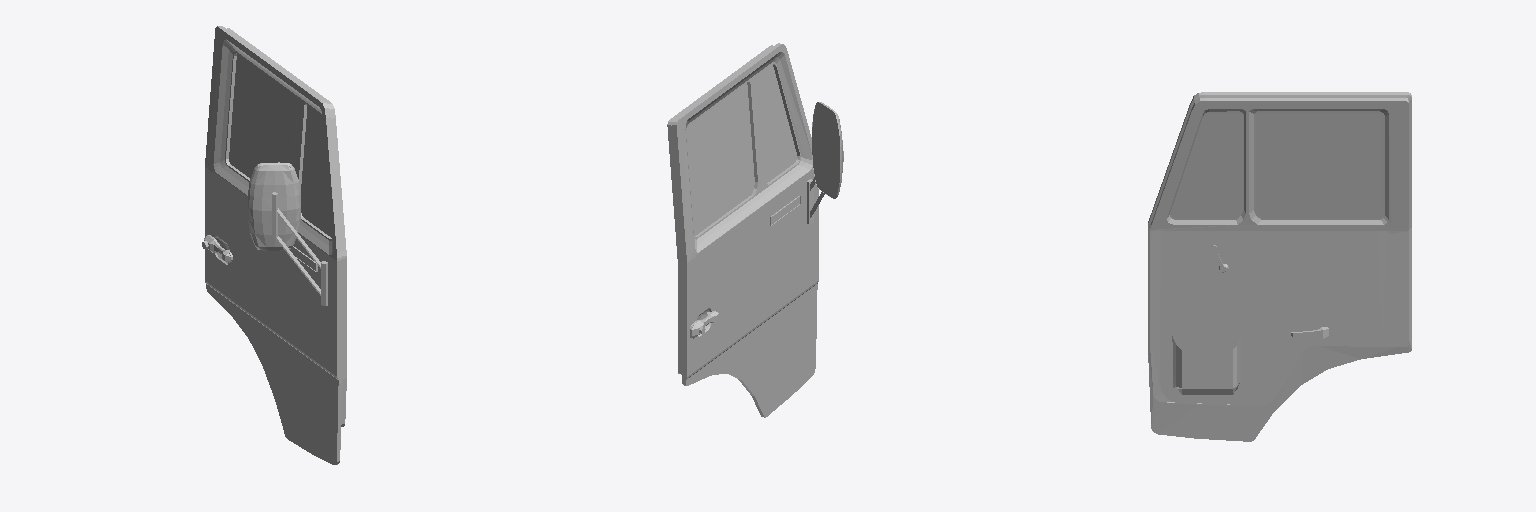
Rendered from rightside_cabin_door.obj.
3 views of the same model, side by side, from view 1: azimuth 30°, elevation 25°; view 2: azimuth 150°, elevation 25°; view 3: azimuth 270°, elevation 25° (orthographic).
Parts seen in each view (by area): view 1: Door_Rf_ok_Untitled.292; view 2: Door_Rf_ok_Untitled.292; view 3: Door_Rf_ok_Untitled.292.
Part boxes in pixels (bbox=[...]): Door_Rf_ok_Untitled.292: bbox=[202, 26, 346, 464]; Door_Rf_ok_Untitled.292: bbox=[667, 43, 843, 417]; Door_Rf_ok_Untitled.292: bbox=[1148, 92, 1411, 441].
Bounding box in the file's own units: 0.3872 × 1.6 × 1.09.